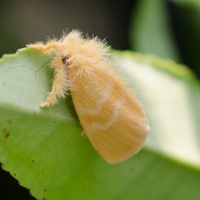insect: (27, 30, 149, 162)
